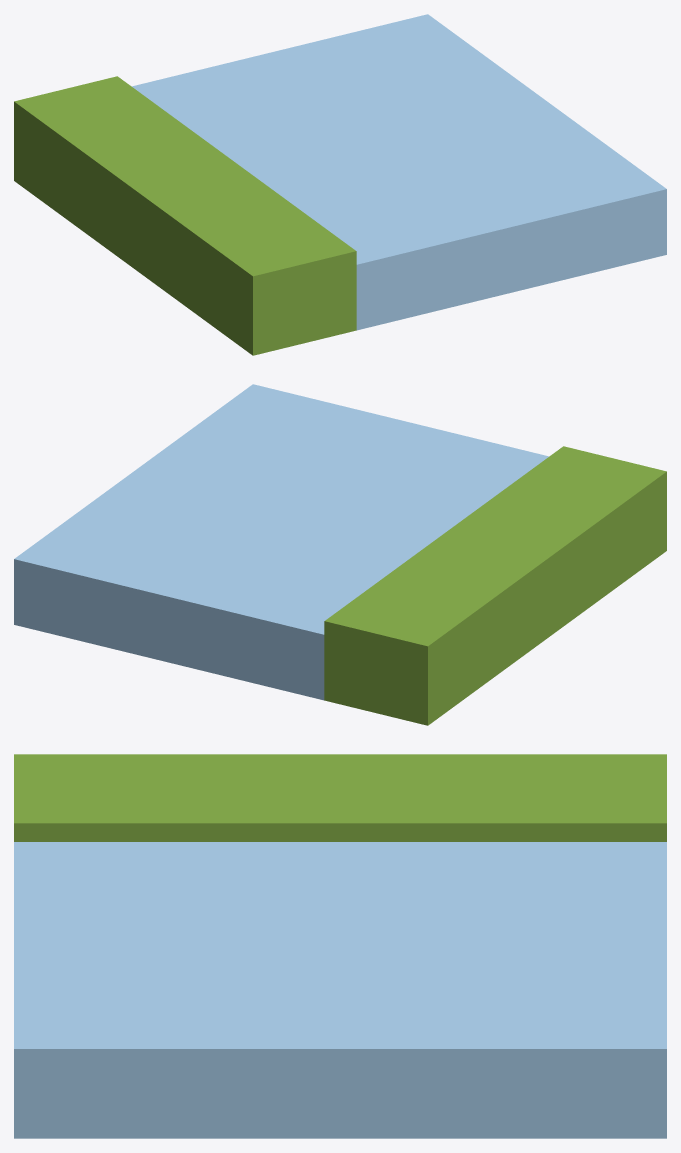
The model's file is roadTile_174.fbx.
3 views of the same model, one above another, from view 1: azimuth 30°, elevation 25°; view 2: azimuth 150°, elevation 25°; view 3: azimuth 270°, elevation 25° (orthographic). The views are drawn at different scales.
Visible parts, largest first — view 1: roadTile_174; view 2: roadTile_174; view 3: roadTile_174.
Boxes of the visible parts, box(x1,y1,x2,y2) form: roadTile_174: box(14, 14, 666, 355); roadTile_174: box(14, 384, 666, 725); roadTile_174: box(14, 754, 666, 1138).
Size of the model in its own units: 118 by 21.65 by 118.
